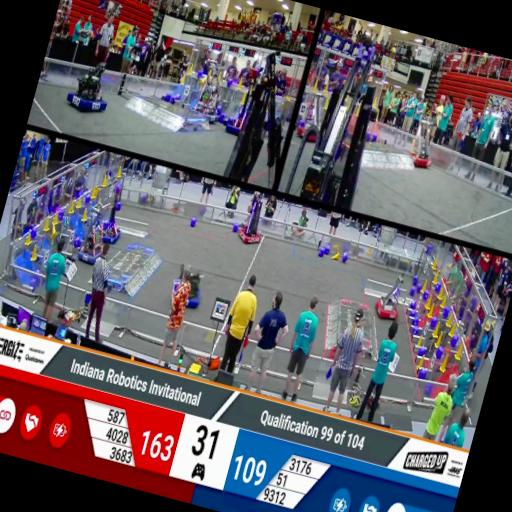robot: (288, 31, 394, 210), (218, 44, 305, 186), (186, 52, 238, 127), (64, 53, 120, 117), (222, 58, 264, 136), (98, 178, 136, 246), (76, 204, 117, 266), (232, 185, 272, 248), (404, 112, 443, 170), (294, 88, 332, 146), (372, 271, 412, 324), (166, 261, 208, 309)
